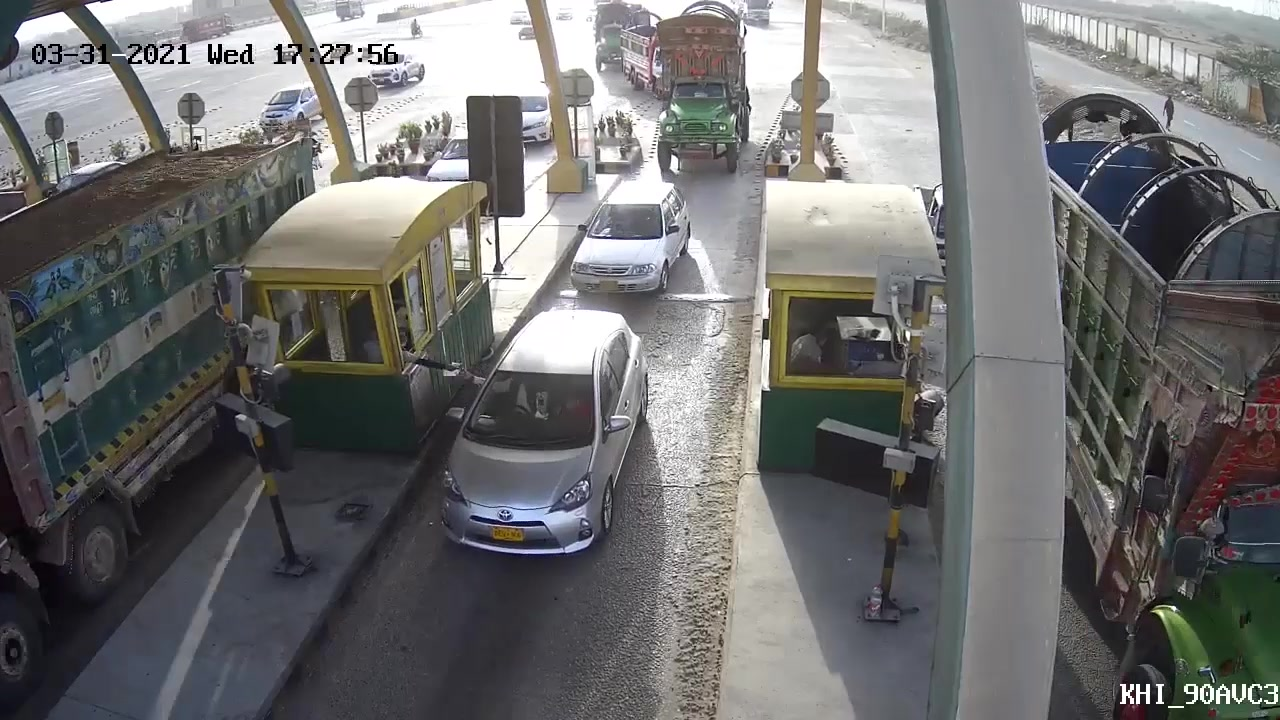F1: (433, 308, 672, 579), (555, 172, 701, 291)
